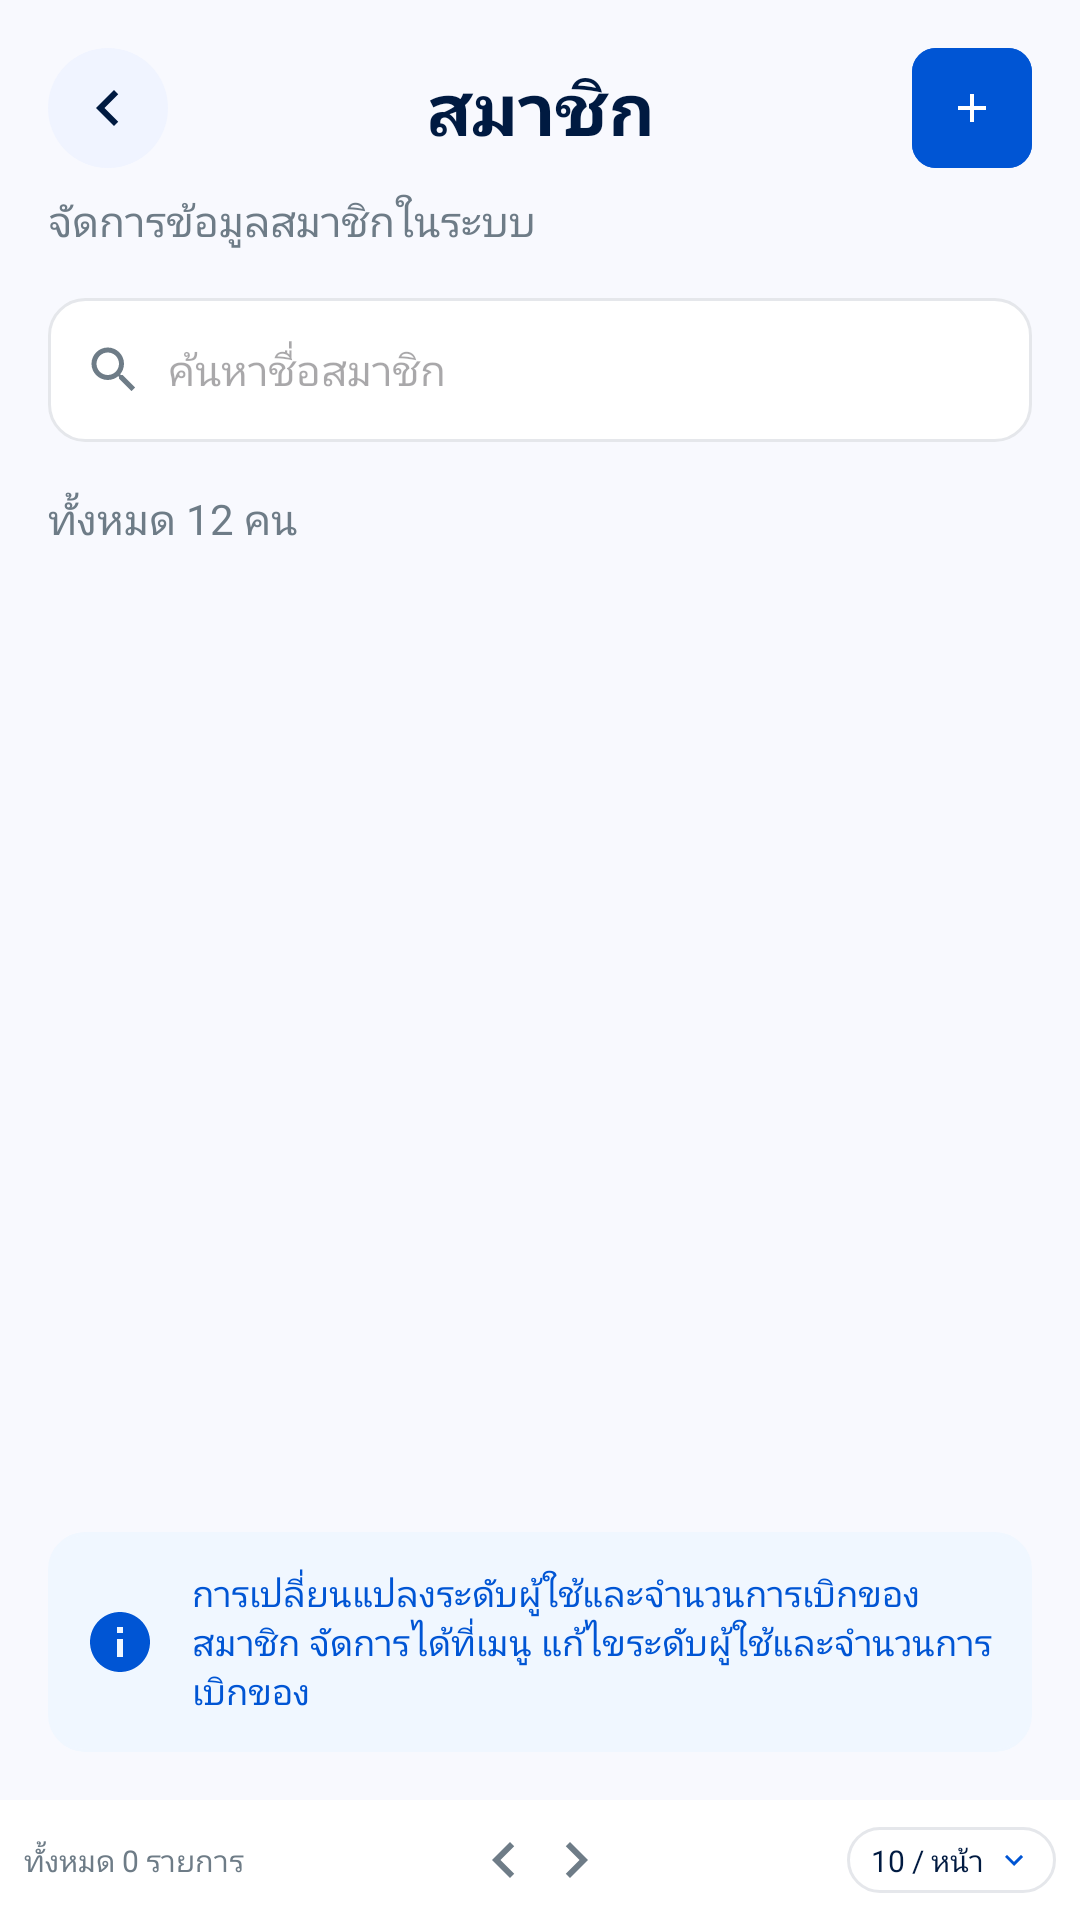

Named icons in this screenshot (1080*1920) and their centers, (x,y):
add: (972,108)
chevron left: (107,108), (503,1860)
chevron right: (577,1860)
info: (120,1642)
Search: (113,369)
